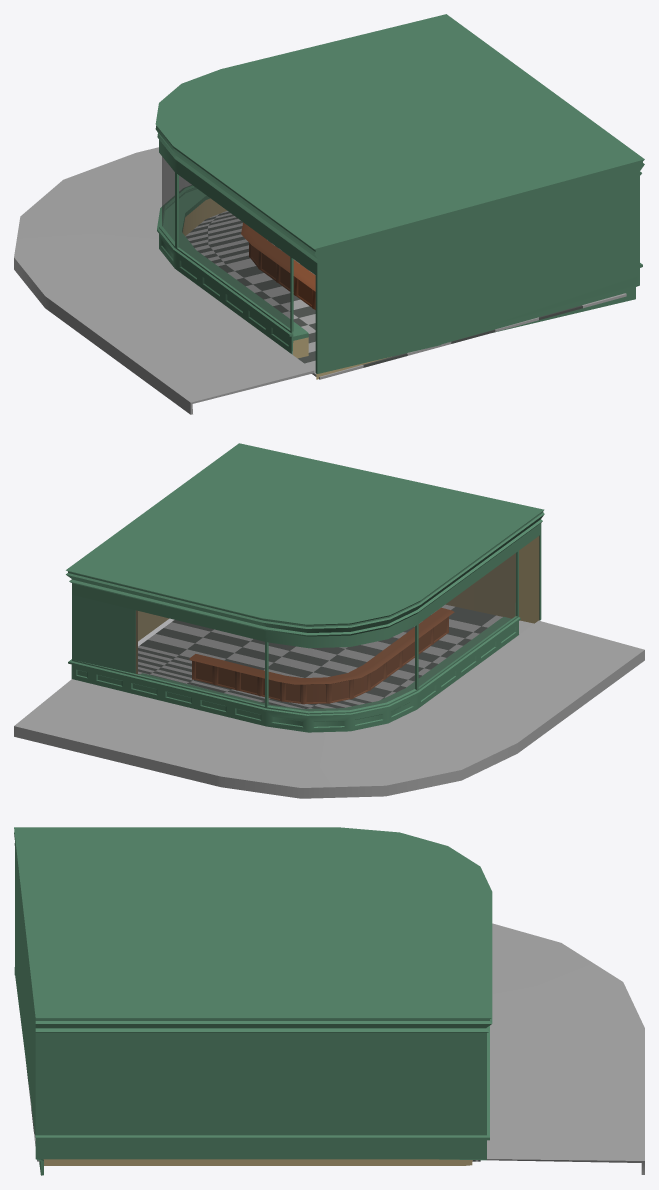
File: diner.glb
3 renders of one model, top to bottom at view 1: azimuth 30°, elevation 25°; view 2: azimuth 150°, elevation 25°; view 3: azimuth 270°, elevation 25°, orthographic. The views are drawn at different scales.
Parts seen in each view (by area): view 1: diner, diner_glass, floor, diner_innerwall_brck, diner_bar; view 2: diner, diner_glass, floor, diner_bar, interiorwall, diner_innerwall_brck; view 3: diner, interiorwall.
Part boxes in pixels (x1,y1,x2,y2): diner: (14,14,644,414); diner_glass: (162,156,289,327); floor: (185,211,626,379); diner_innerwall_brck: (163,189,308,358); diner_bar: (241,222,315,309); diner: (14,443,644,798); diner_glass: (135,553,515,710); floor: (138,604,533,708); diner_bar: (189,607,454,704); interiorwall: (136,536,539,674); diner_innerwall_brck: (140,617,511,711); diner: (14,827,644,1175); interiorwall: (43,1159,472,1165).
Size of the model in its own units: 25.34 by 7.38 by 26.22.
